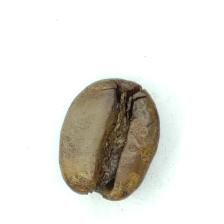NG: (90, 87, 136, 196)
